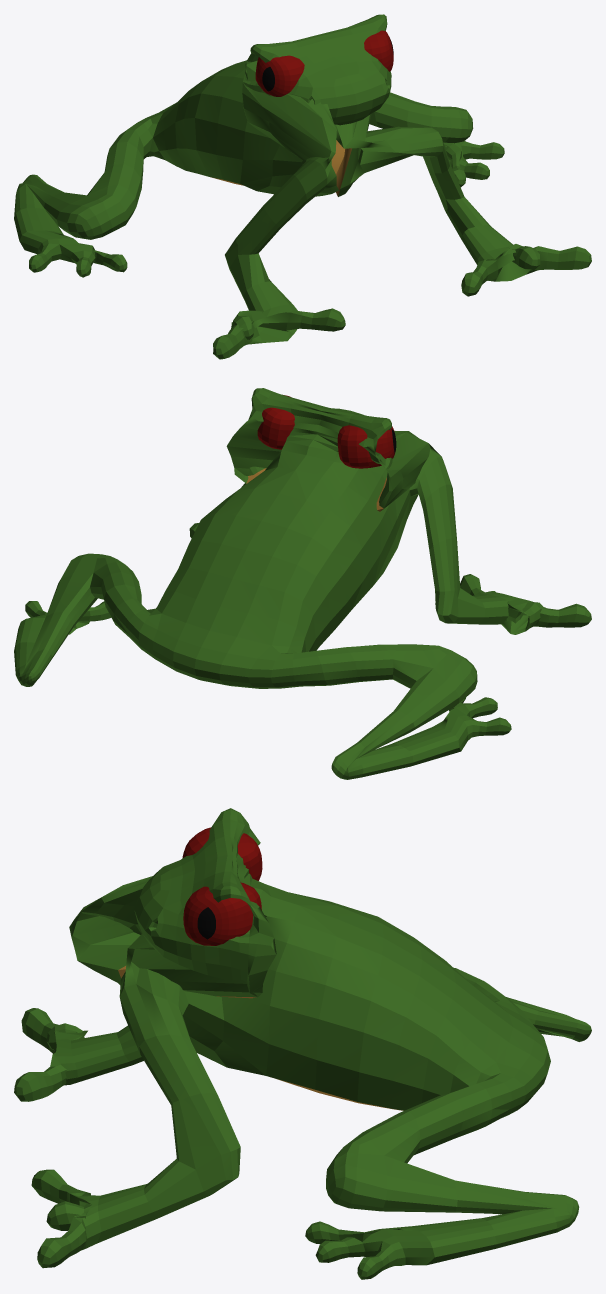
The model's file is Pet_Frog.obj.
The picture shows the model from 3 angles, top to bottom: view 1: azimuth 30°, elevation 25°; view 2: azimuth 150°, elevation 25°; view 3: azimuth 270°, elevation 25°; orthographic projection. The views are drawn at different scales.
Parts seen in each view (by area): view 1: Pet_Frog; view 2: Pet_Frog; view 3: Pet_Frog.
Boxes of the visible parts, left/top/right/bottom form: Pet_Frog: left=14, top=14, right=591, bottom=359; Pet_Frog: left=14, top=388, right=591, bottom=779; Pet_Frog: left=14, top=808, right=591, bottom=1279.
Bounding box in the file's own units: 3.19 × 1.54 × 2.63.
